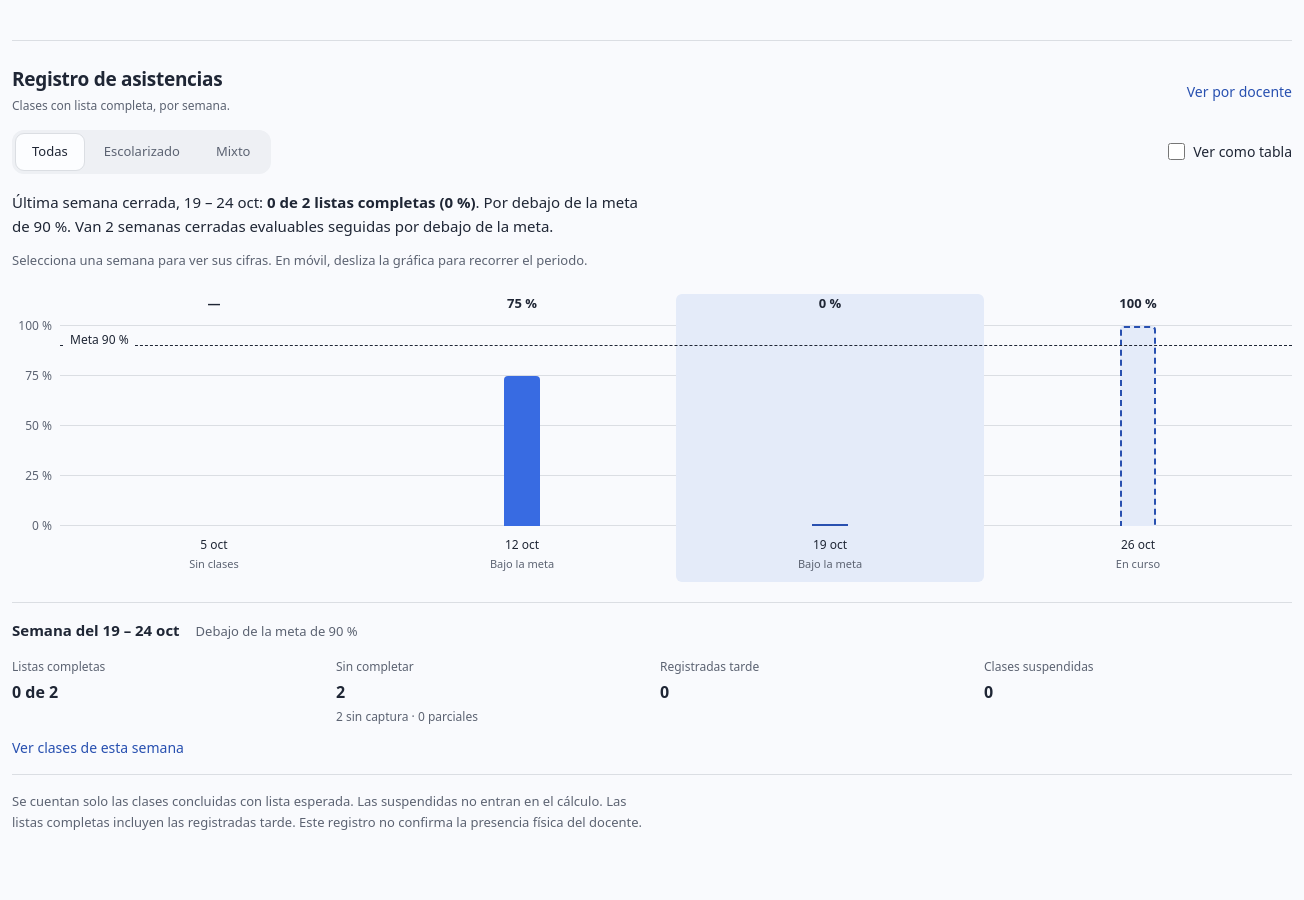
Scenario: lectura del registro de asistencias › filtra modalidades, conserva cantidades y ofrece tabla sin perder tardías ni suspendidas
Click the button "Mixto": (233, 152) [199,132,268,170]
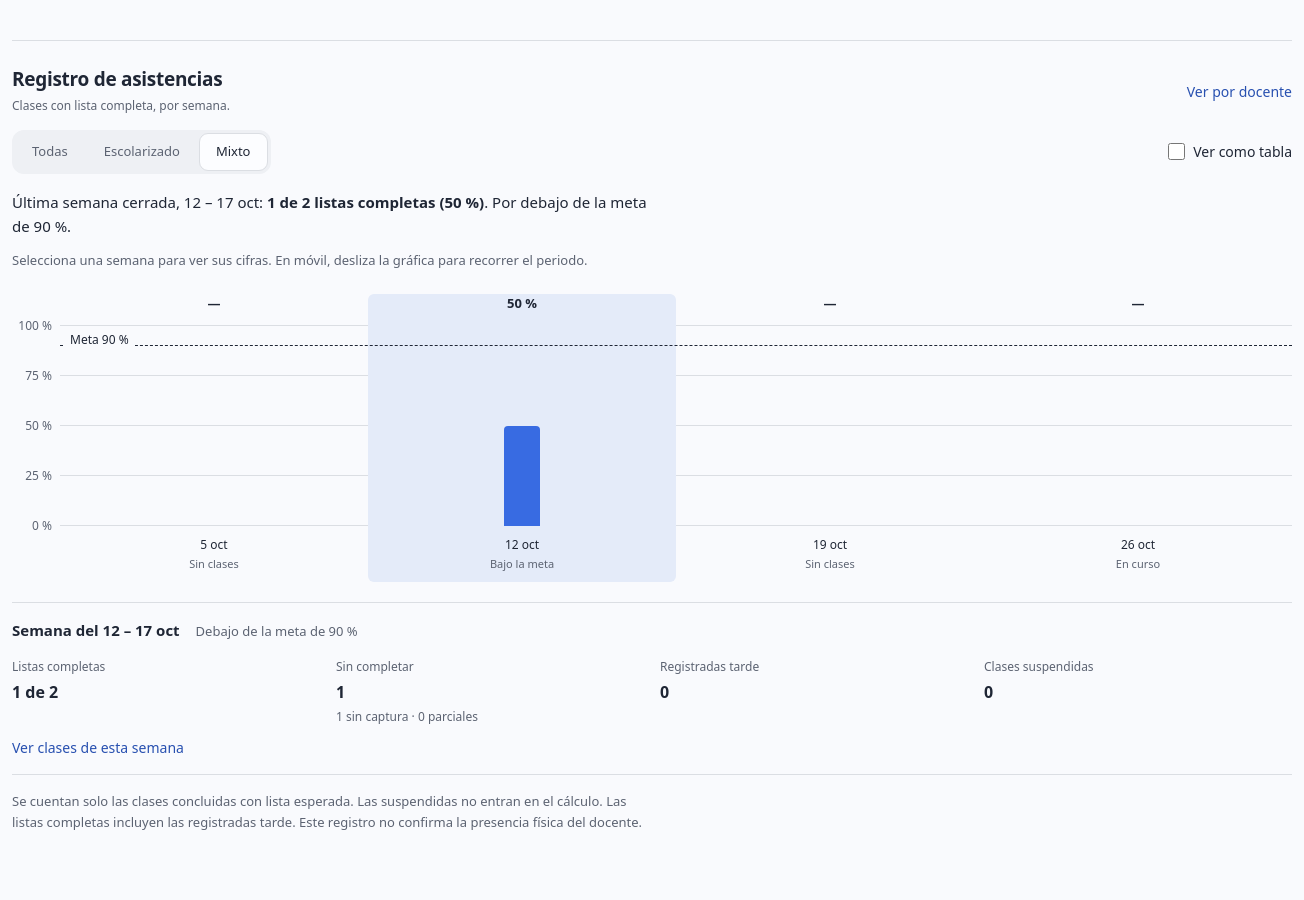
Check: the text "Última semana cerrada" shows "1 de 2 listas completas (50 %)", box [12,190,656,238]
Click the button "Todas": (50, 152) [15,132,85,170]
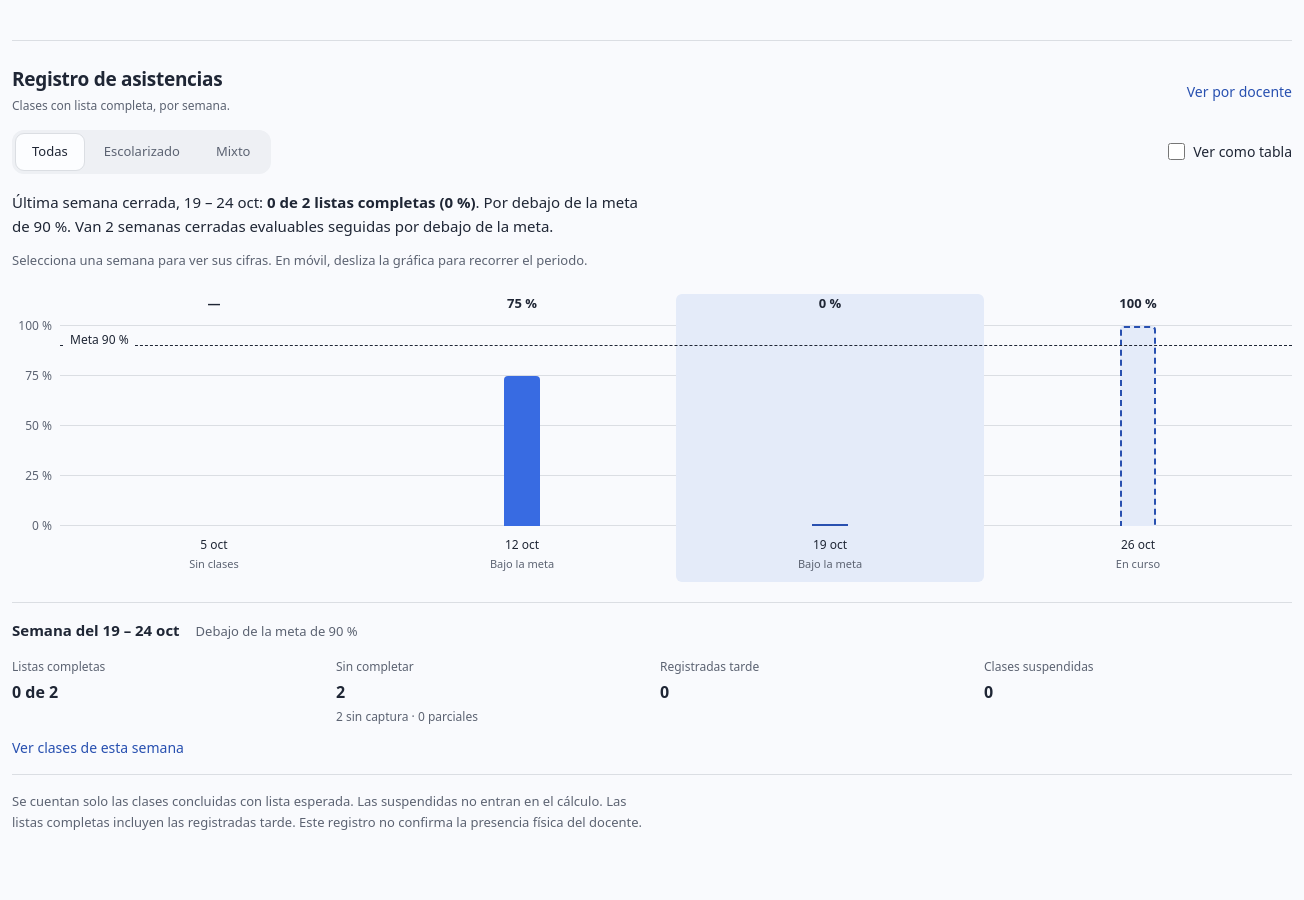
Click the radio button labelled "75 % 12 oct Bajo la meta": (522, 433) [490,294,554,571]
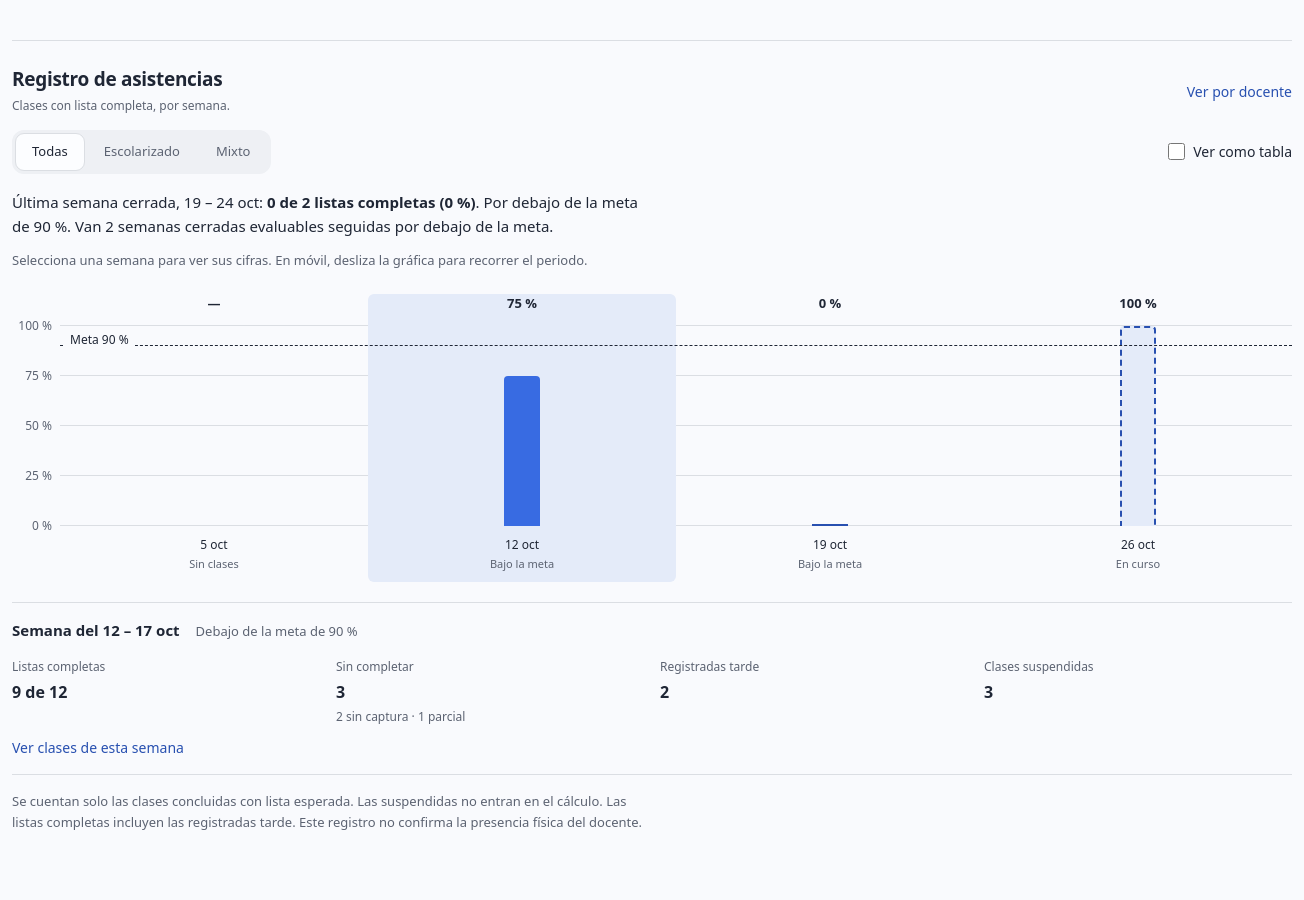
Check: the text "9 de 12" is shown, box [12,681,67,703]
Check: the text "2 sin captura · 1 parcial" is shown, box [336,708,465,725]
Click the checkbox labelled "Ver como tabla": (1177, 152) [1168,143,1185,160]
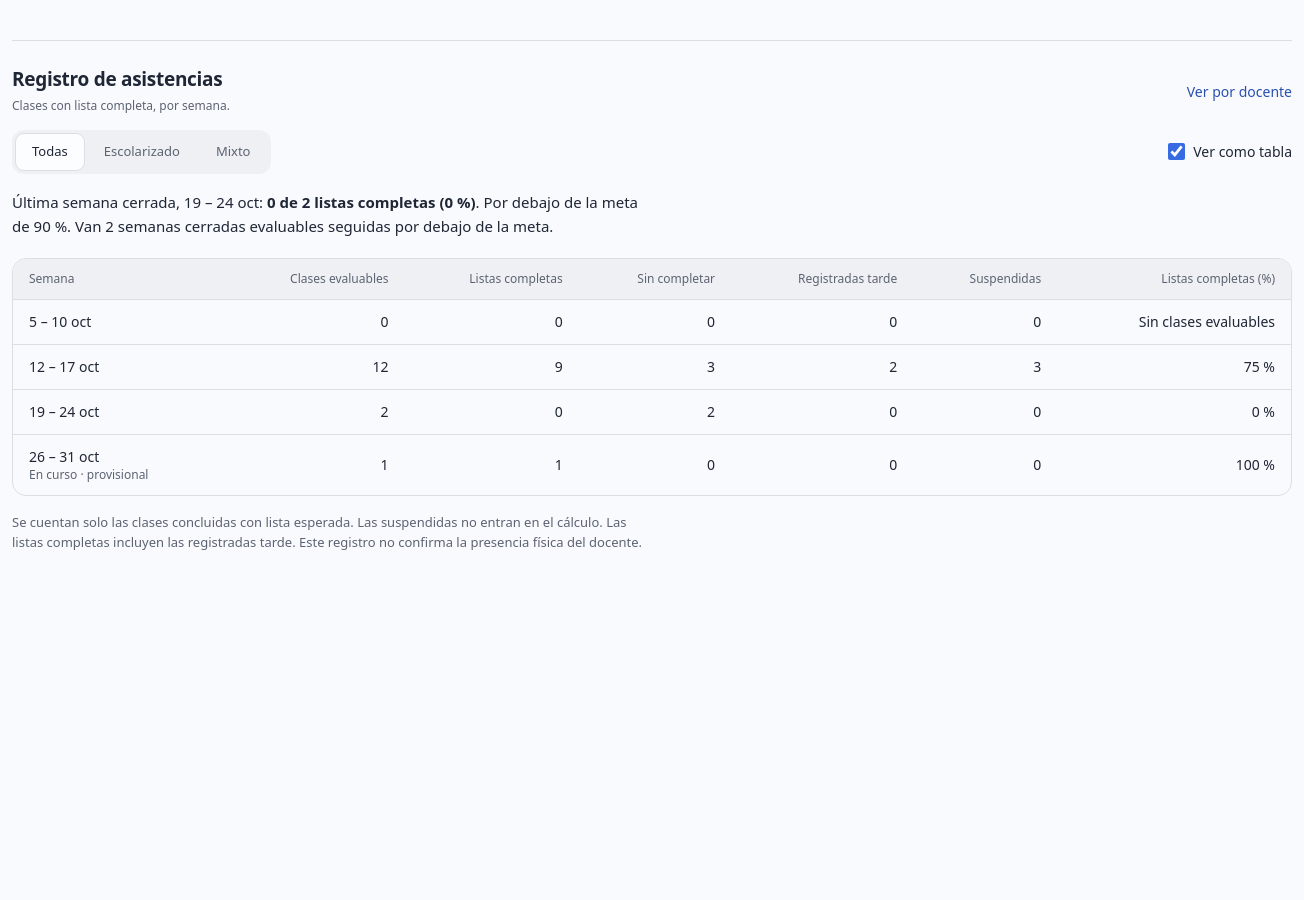
Check: the cells read "12", "9", "3", "2", "3", "75 %", in this order, box [223,344,404,389]; [404,344,579,389]; [579,344,731,389]; [731,344,913,389]; [913,344,1057,389]; [1057,344,1291,389]
